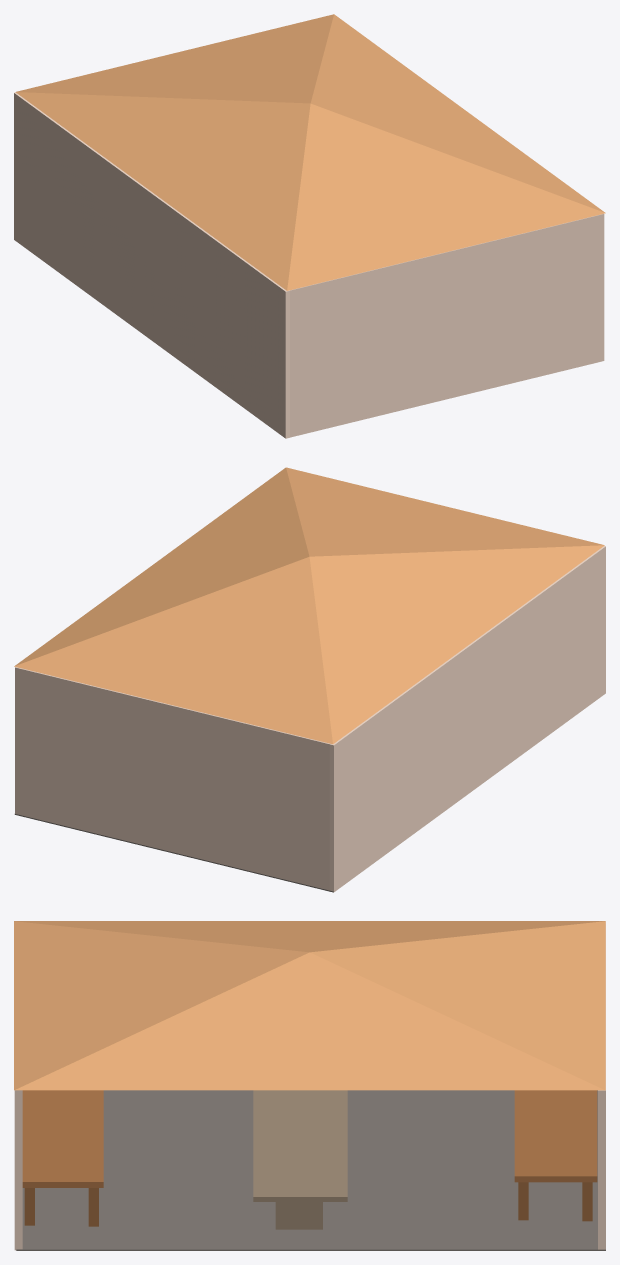
Rendered from paredesok2.glb.
The picture shows the model from 3 angles, top to bottom: view 1: azimuth 30°, elevation 25°; view 2: azimuth 150°, elevation 25°; view 3: azimuth 270°, elevation 25°; orthographic projection. The views are drawn at different scales.
Parts seen in each view (by area): view 1: Cubo.001, Cube.003, Cube.004; view 2: Cubo.001, Cube.001, Cube.004; view 3: Cubo.001, Cubo, Cubo.002, Cubo.003, Cubo.008, Cube.001, Cube.003.
Boxes of the visible parts, <box> form: Cubo.001: <box>15,14,605,290</box>; Cube.003: <box>290,213,604,437</box>; Cube.004: <box>14,92,289,438</box>; Cubo.001: <box>14,467,604,744</box>; Cube.001: <box>15,667,330,890</box>; Cube.004: <box>329,546,605,891</box>; Cubo.001: <box>14,921,605,1090</box>; Cubo: <box>16,1090,605,1250</box>; Cubo.002: <box>253,1090,347,1229</box>; Cubo.003: <box>22,1090,103,1226</box>; Cubo.008: <box>514,1090,597,1221</box>; Cube.001: <box>598,924,605,1249</box>; Cube.003: <box>14,1090,22,1250</box>.
Bounding box in the file's own units: 34.15 × 20.03 × 50.2.
